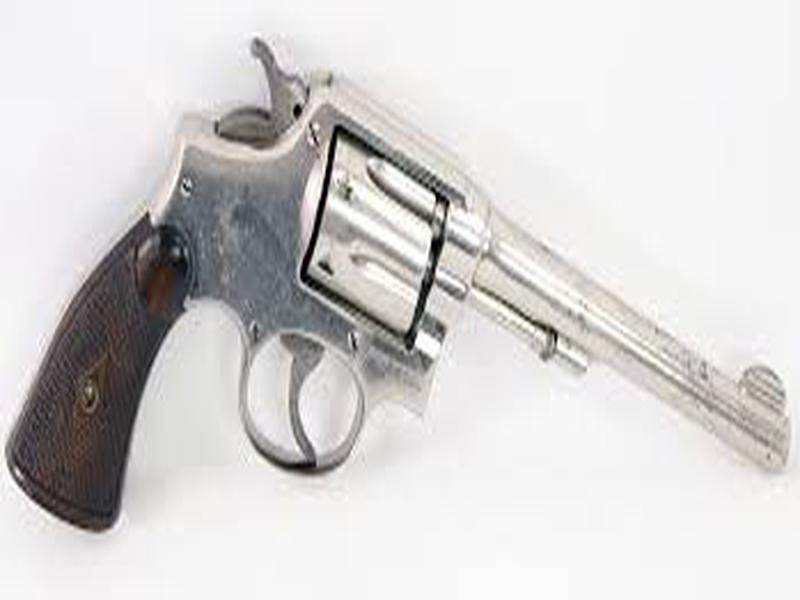gun: (5, 27, 799, 538)
